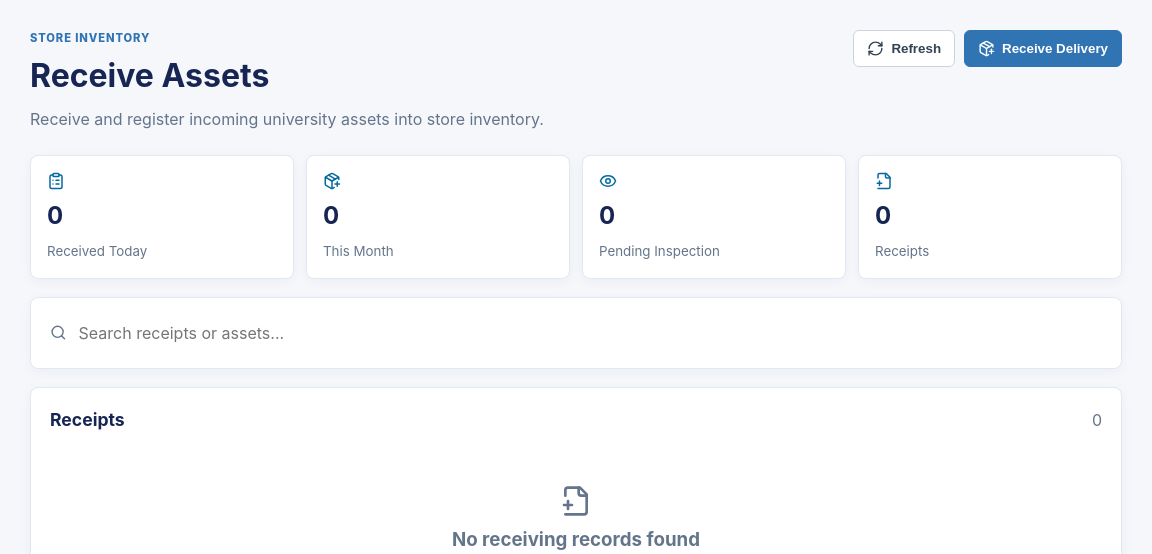
Scenario: requires a receiving reference and location before submitting
The image size is (1152, 554).
Click the button "Receive Delivery" in the row of "Receive Assets".
click(1043, 48)  # box x1=964 y1=30 x2=1122 y2=67
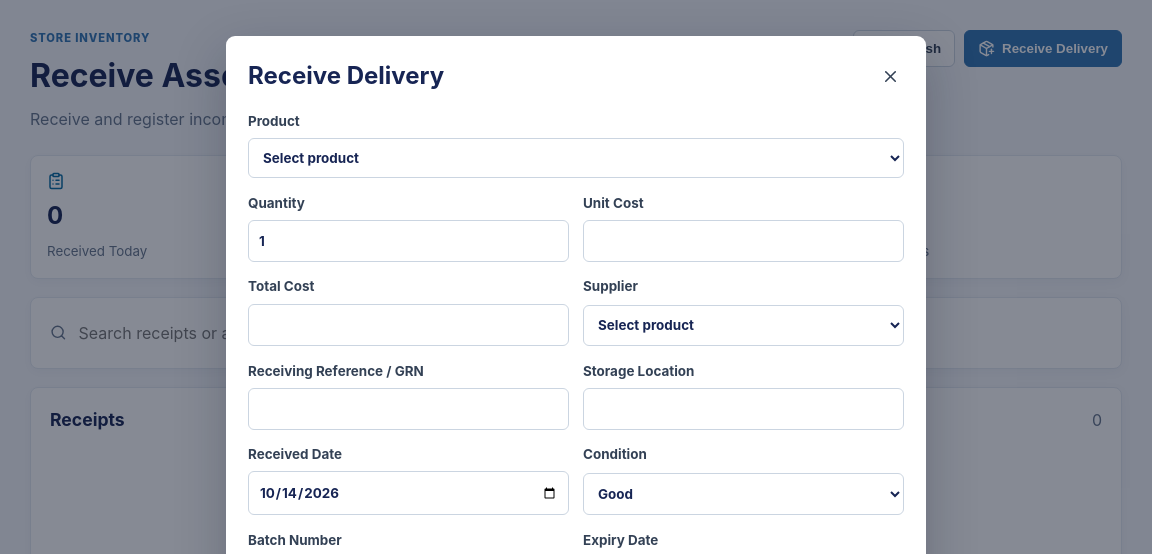
Select "P-22 - Printer paper" in the dropdown labelled "Product" at (576, 158), box x1=248 y1=138 x2=904 y2=178
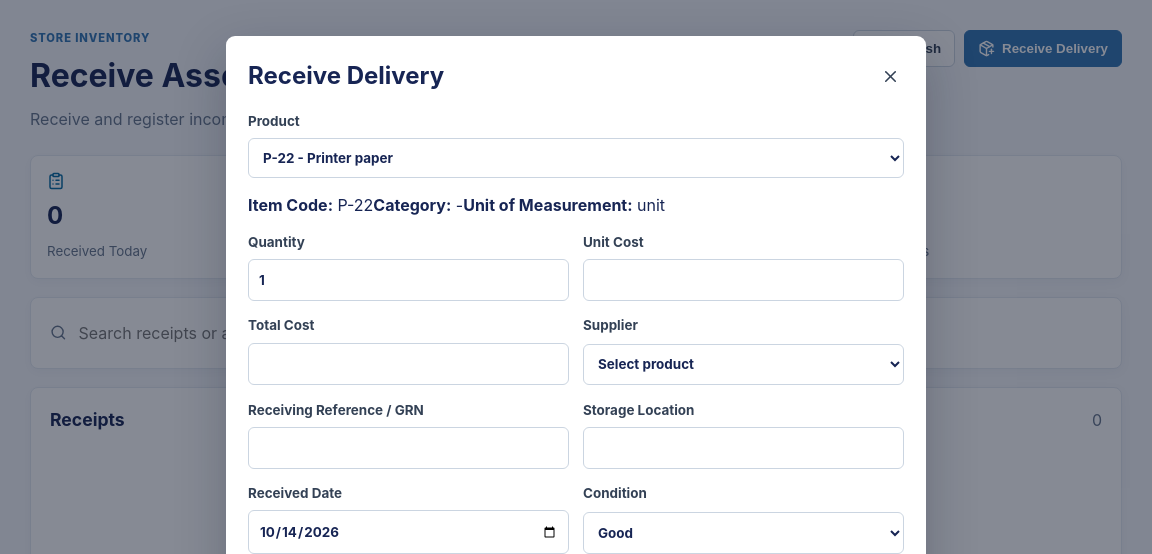
Replace the text in the number field labelled "Quantity" with "2" at (408, 280), box x1=248 y1=259 x2=569 y2=302
(page scrolled)
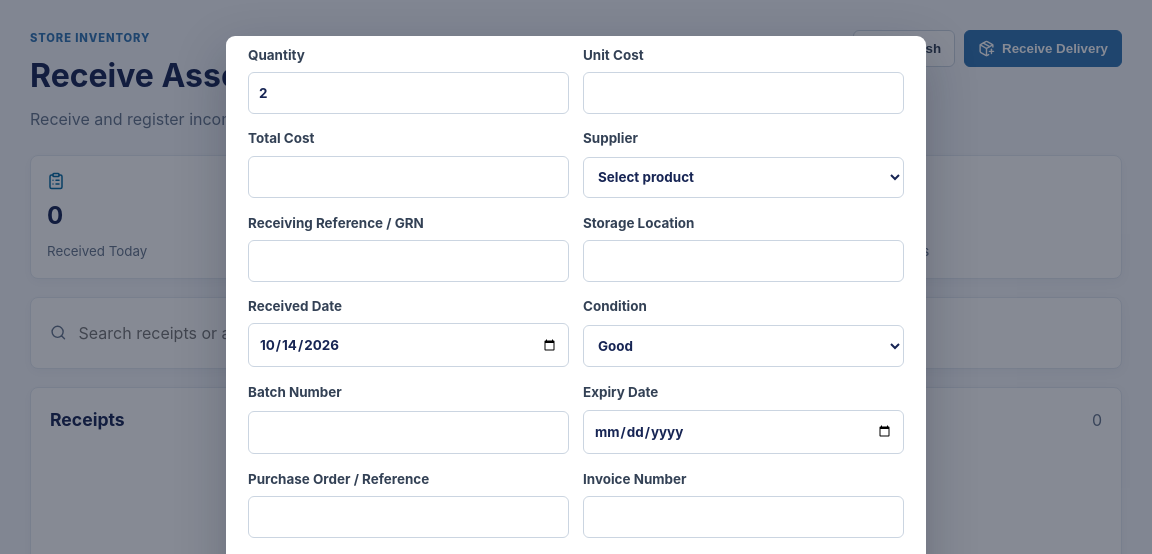
Submit the form
(page scrolled)
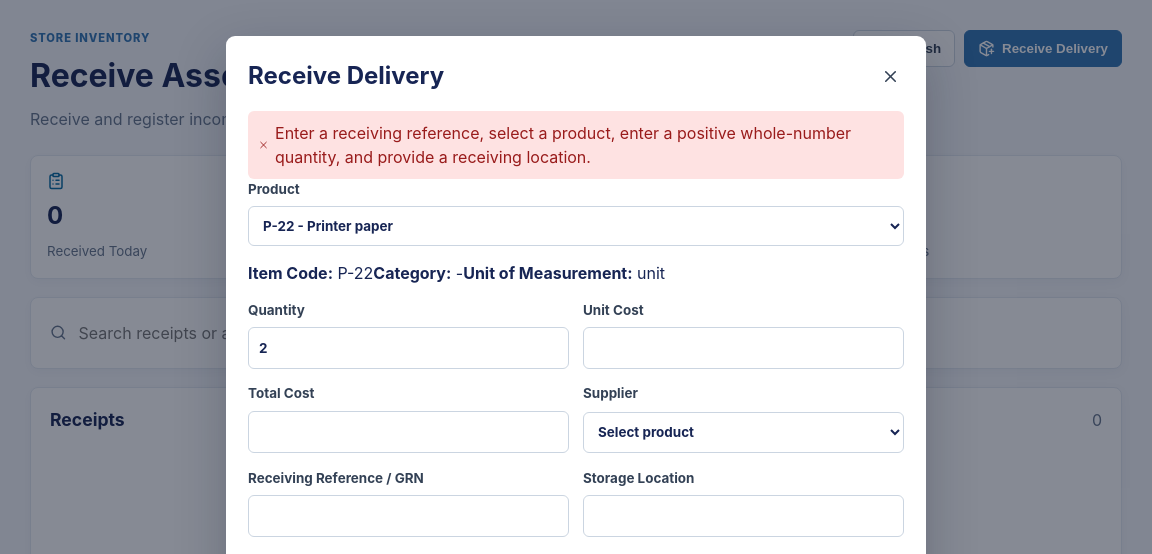
Check: the message shows "Enter a receiving reference, select a product, enter a positive whole-number quantity, and provide a receiving location.", box x1=275 y1=123 x2=851 y2=167
